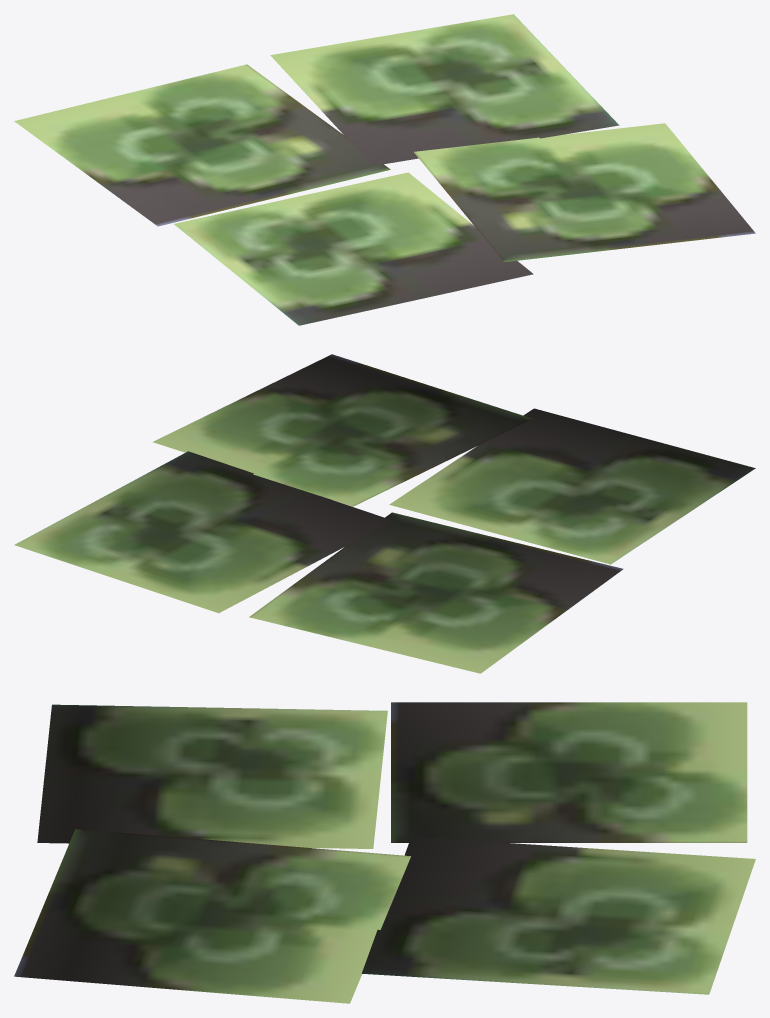
Rendered from fg_grassE.dae.
The picture shows the model from 3 angles, top to bottom: view 1: azimuth 30°, elevation 25°; view 2: azimuth 150°, elevation 25°; view 3: azimuth 270°, elevation 25°; orthographic projection. The views are drawn at different scales.
Parts seen in each view (by area): view 1: fg_grassE; view 2: fg_grassE; view 3: fg_grassE.
Part boxes in pixels (x1,y1,x2,y2): fg_grassE: (14,14,755,325); fg_grassE: (14,354,755,673); fg_grassE: (14,702,755,1003).
Bounding box in the file's own units: 23.5 × 0.3916 × 24.87.
Materials: 1 (1 with a texture image).
